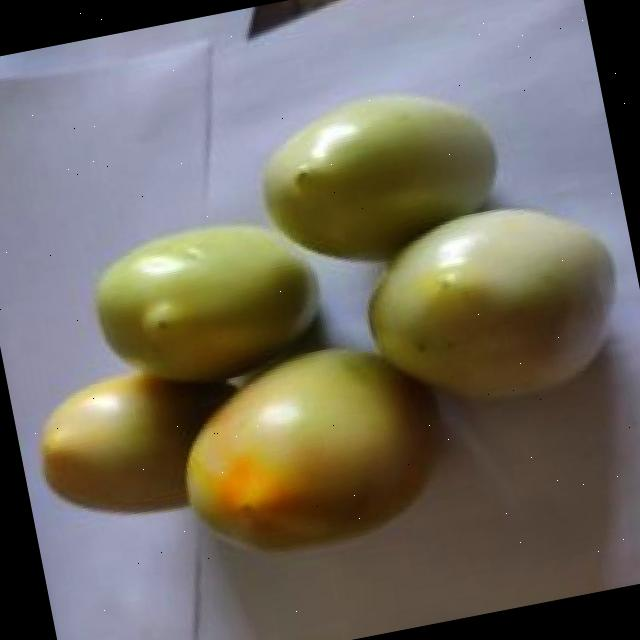tomato: (162, 330, 454, 572), (350, 188, 636, 422), (248, 78, 512, 278), (82, 208, 331, 399), (24, 362, 232, 533)
